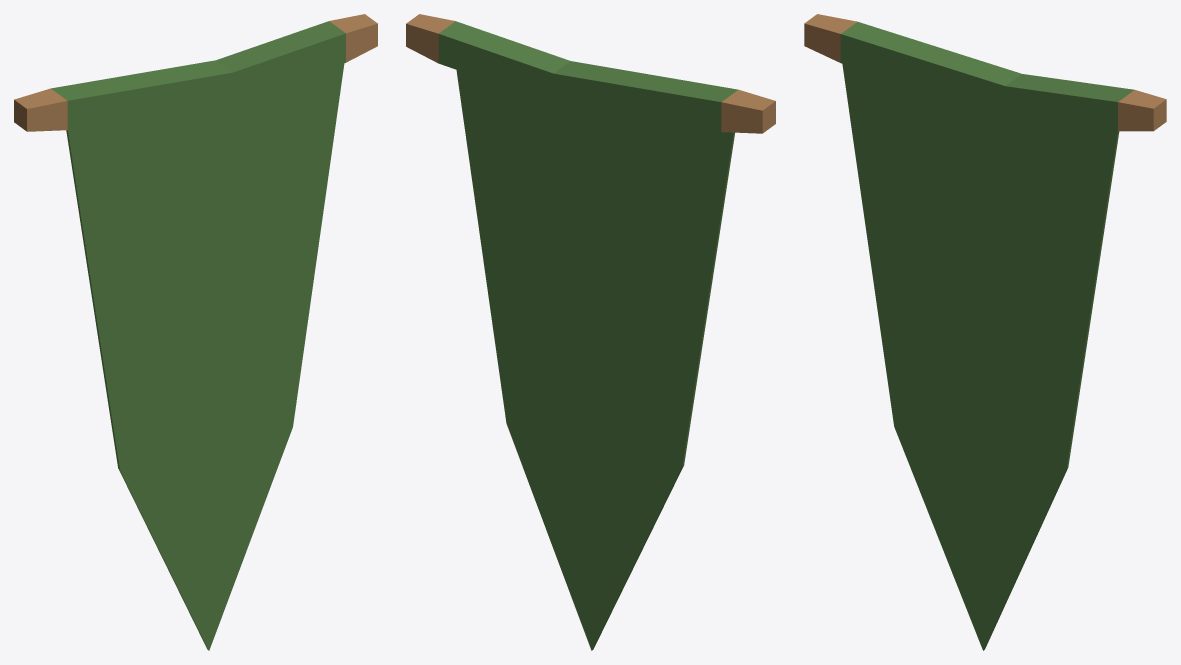
Rendered from banner_green.fbx.
3 renders of one model, left to right at view 1: azimuth 30°, elevation 25°; view 2: azimuth 150°, elevation 25°; view 3: azimuth 330°, elevation 25°, orthographic. The views are drawn at different scales.
Parts seen in each view (by area): view 1: banner_green; view 2: banner_green; view 3: banner_green.
Part boxes in pixels (bbox=[...]): banner_green: bbox=[14, 14, 377, 650]; banner_green: bbox=[406, 14, 775, 650]; banner_green: bbox=[804, 14, 1166, 650].
Size of the model in its own units: 127 by 202 by 10.59.
